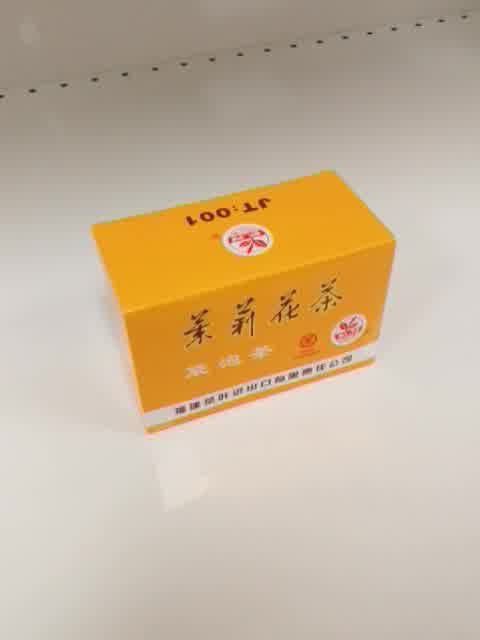jasminetea: (91, 170, 395, 435)
